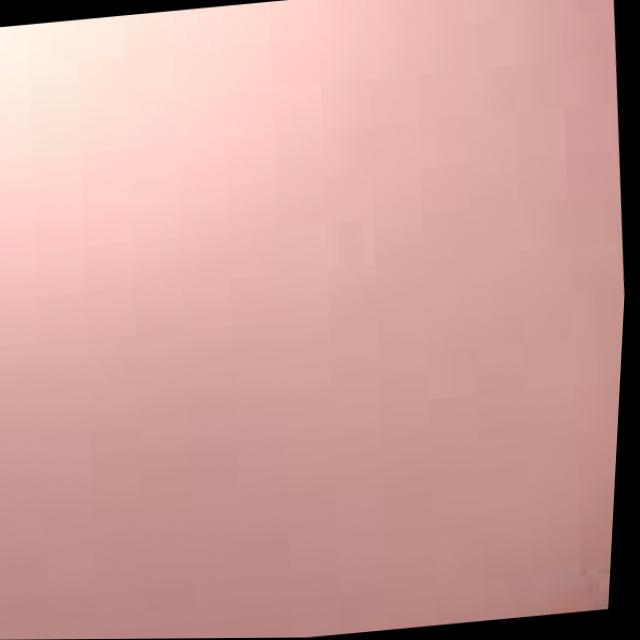metal-plates: (1, 1, 629, 640)
